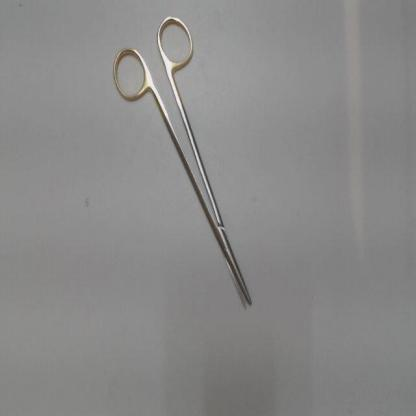7 Metzenbaum Scissors: (107, 9, 256, 316)
